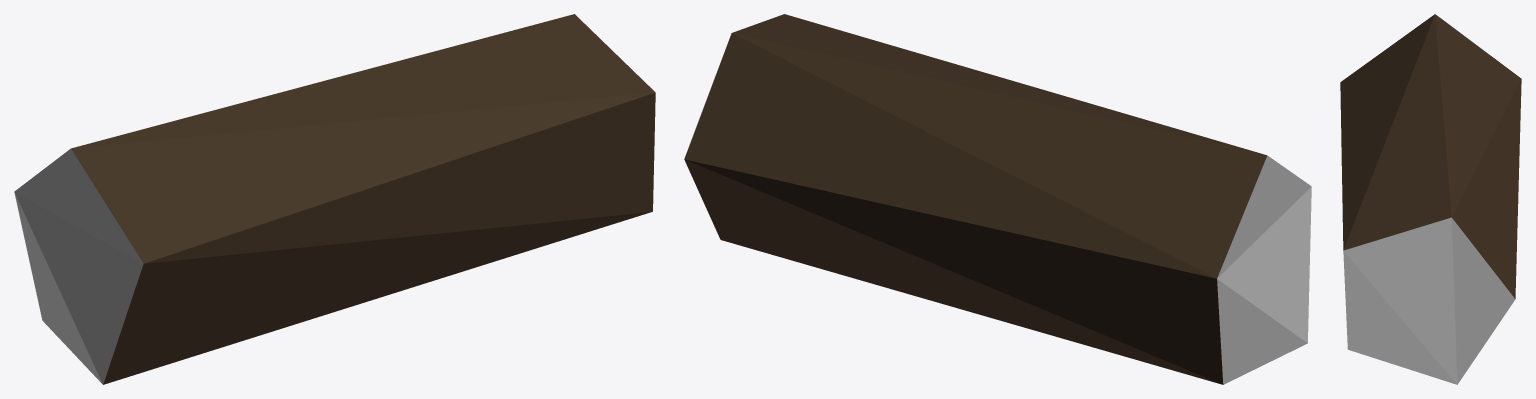
The model's file is NC_LOB_LOG3.OBJ.
3 views of the same model, side by side, from view 1: azimuth 30°, elevation 25°; view 2: azimuth 150°, elevation 25°; view 3: azimuth 270°, elevation 25° (orthographic). The views are drawn at different scales.
Visible parts, largest first — view 1: NC_LOB_LOG3; view 2: NC_LOB_LOG3; view 3: NC_LOB_LOG3.
Part boxes in pixels (x1,y1,x2,y2): NC_LOB_LOG3: (14,14,655,384); NC_LOB_LOG3: (684,14,1311,384); NC_LOB_LOG3: (1340,14,1521,384).
Bounding box in the file's own units: 1.44 × 0.5438 × 0.5186.
